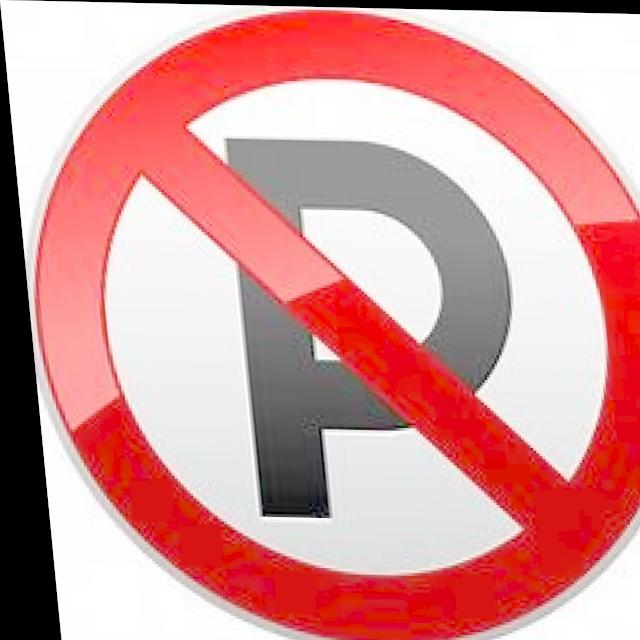NO_PARKING: (5, 0, 640, 640)
